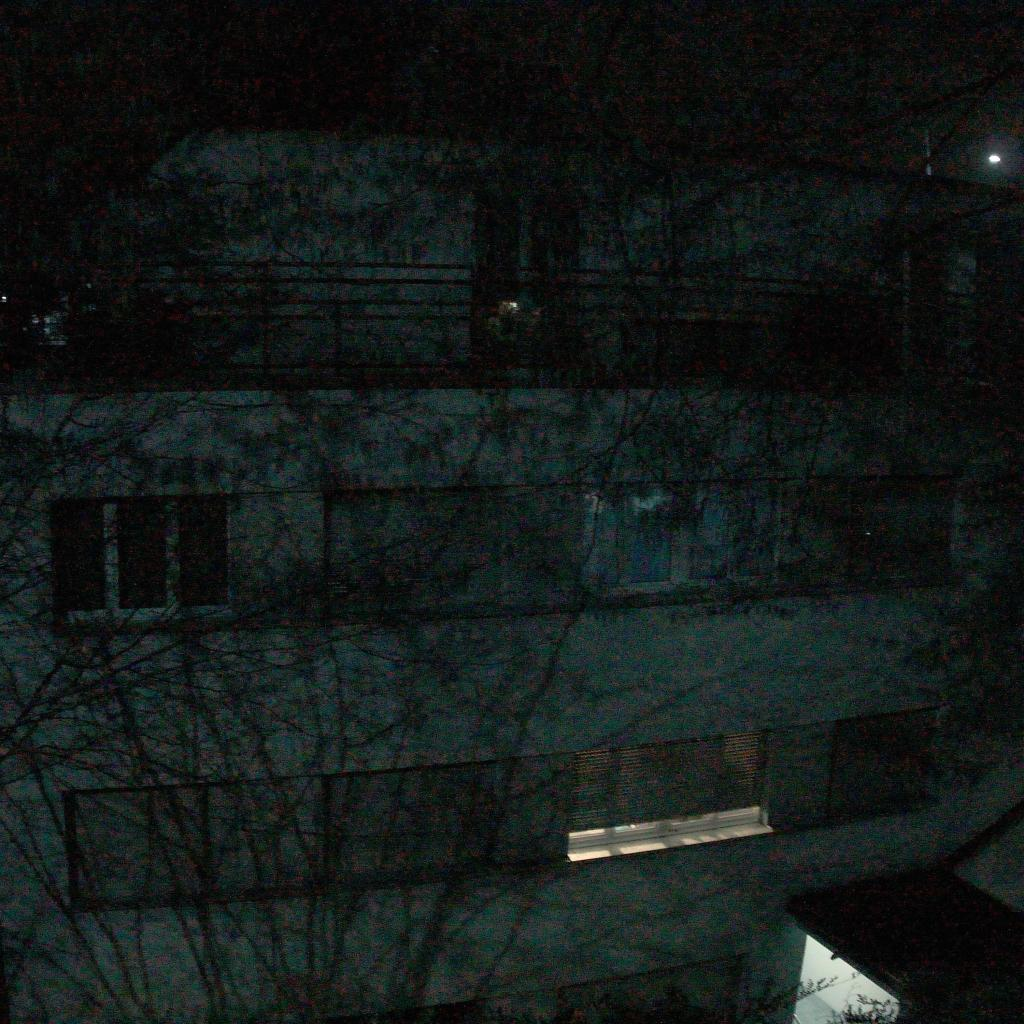balcony-fence: (0, 253, 1024, 387)
facade: (0, 377, 1024, 1024)
window: (48, 494, 234, 626), (61, 775, 243, 909), (568, 729, 771, 849), (581, 475, 783, 594), (321, 485, 504, 612), (316, 760, 497, 882), (558, 954, 743, 1024), (283, 996, 486, 1024)
